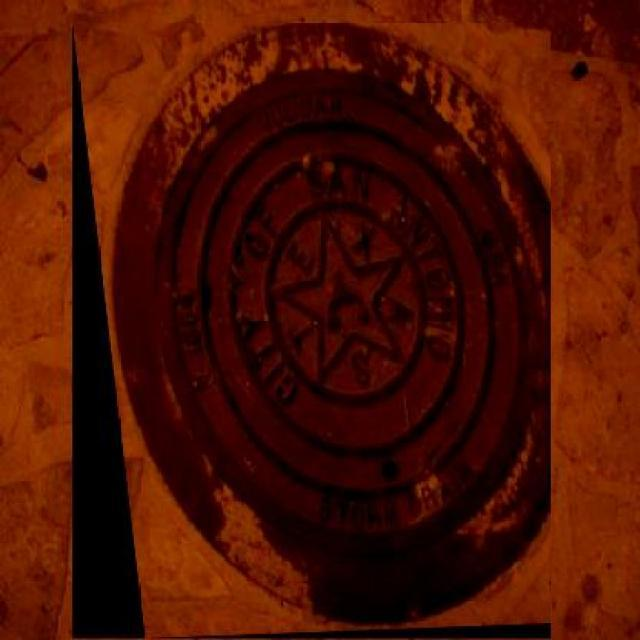Manhole: (72, 23, 551, 639)
